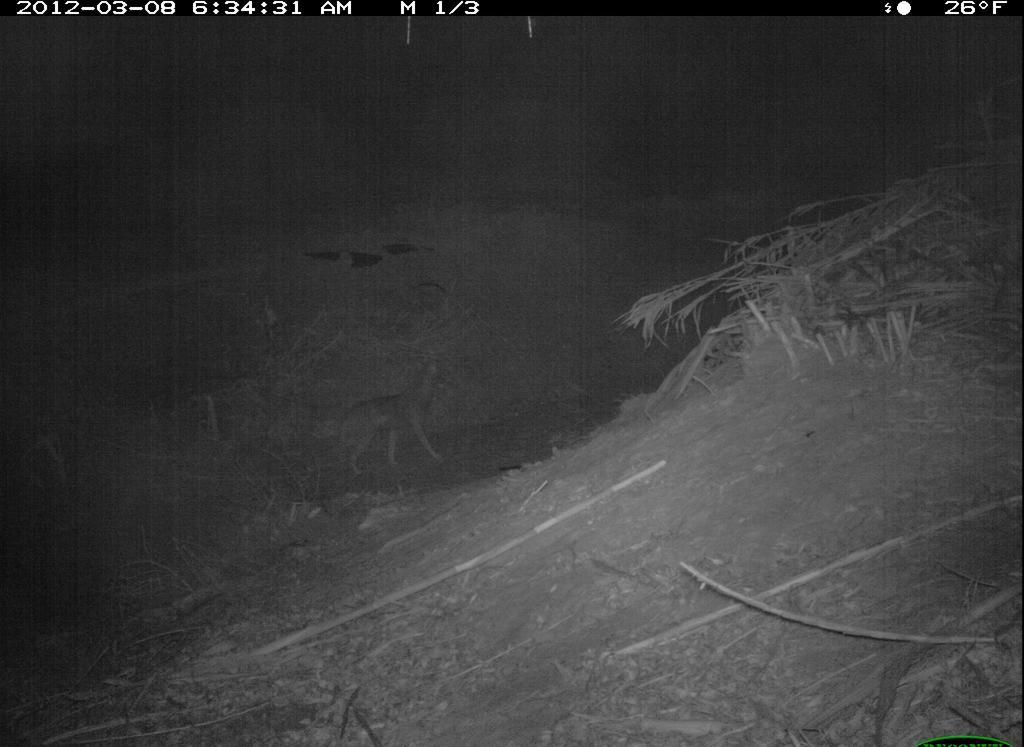coyote: (327, 350, 472, 484)
